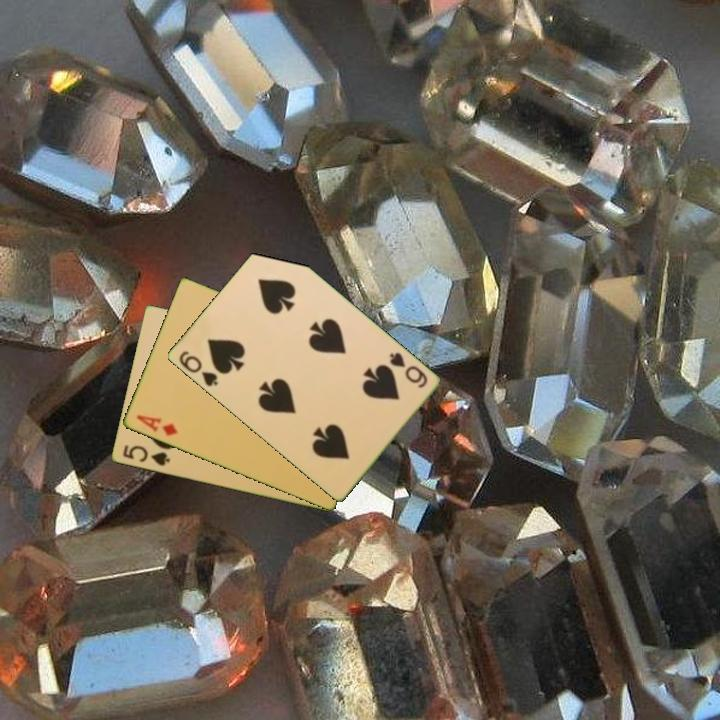5s: (119, 441, 172, 469)
6s: (175, 347, 221, 390), (385, 349, 430, 391)
Ad: (132, 411, 180, 439)
